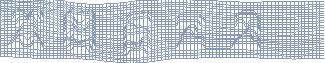2: (228, 10, 264, 51)
5: (119, 9, 154, 58)
g: (60, 8, 99, 55)
x: (7, 8, 47, 52)
z: (173, 12, 207, 52)
